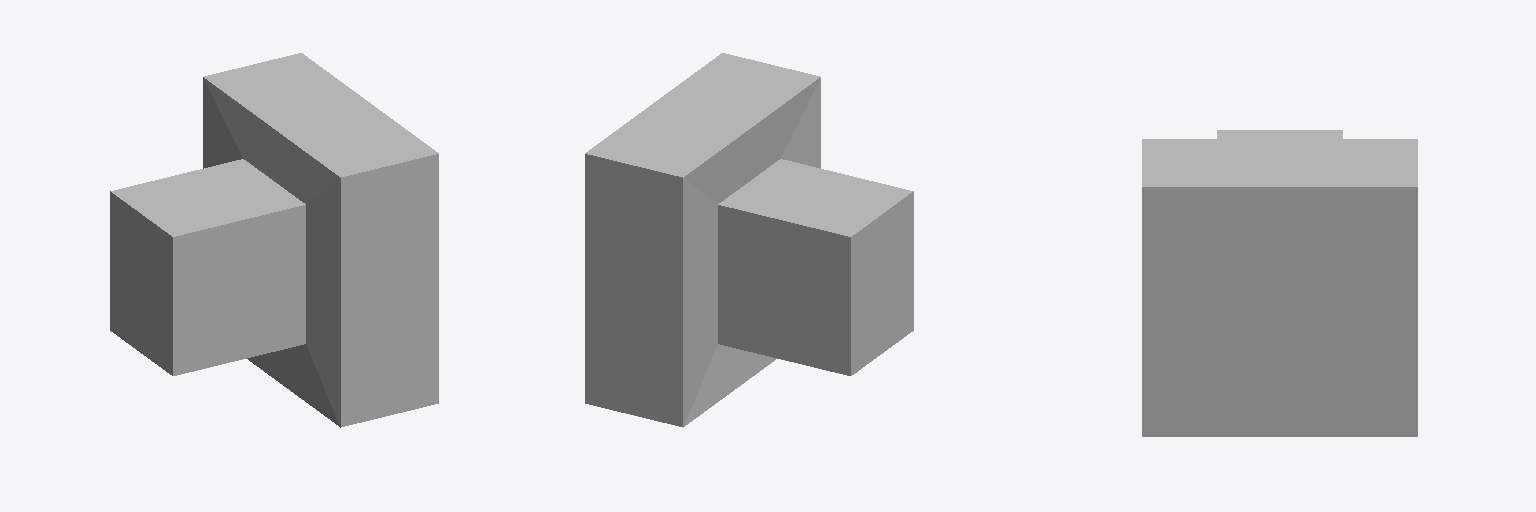
Rendered from WheelT.obj.
3 renders of one model, left to right at view 1: azimuth 30°, elevation 25°; view 2: azimuth 150°, elevation 25°; view 3: azimuth 270°, elevation 25°, orthographic.
Visible parts, largest first — view 1: pCube1; view 2: pCube1; view 3: pCube1.
Boxes of the visible parts, <box> form: pCube1: <box>110,53,438,427</box>; pCube1: <box>585,53,913,427</box>; pCube1: <box>1142,130,1417,436</box>.
Bounding box in the file's own units: 0.995 × 1.04 × 1.04.